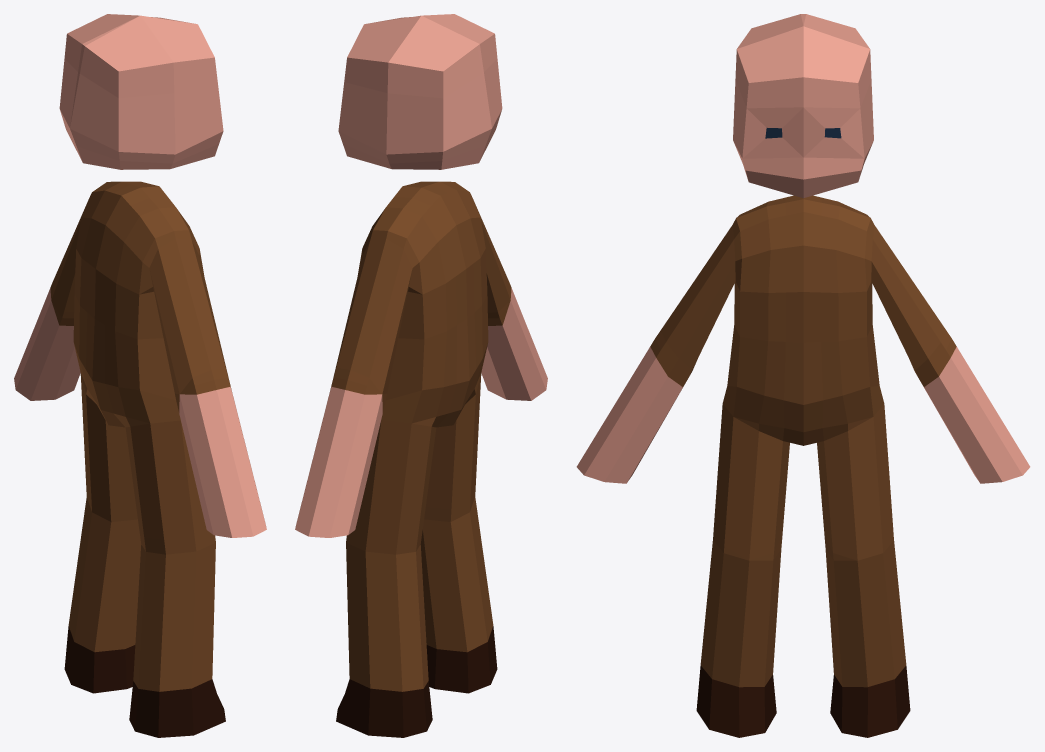
Rendered from Dummy.fbx.
3 views of the same model, side by side, from view 1: azimuth 30°, elevation 25°; view 2: azimuth 150°, elevation 25°; view 3: azimuth 270°, elevation 25° (orthographic).
Parts seen in each view (by area): view 1: dummy; view 2: dummy; view 3: dummy.
Part boxes in pixels (x1,y1,x2,y2): dummy: (14,14,266,737); dummy: (295,14,547,737); dummy: (576,14,1030,737).
Size of the model in its own units: 36.82 by 173 by 103.
